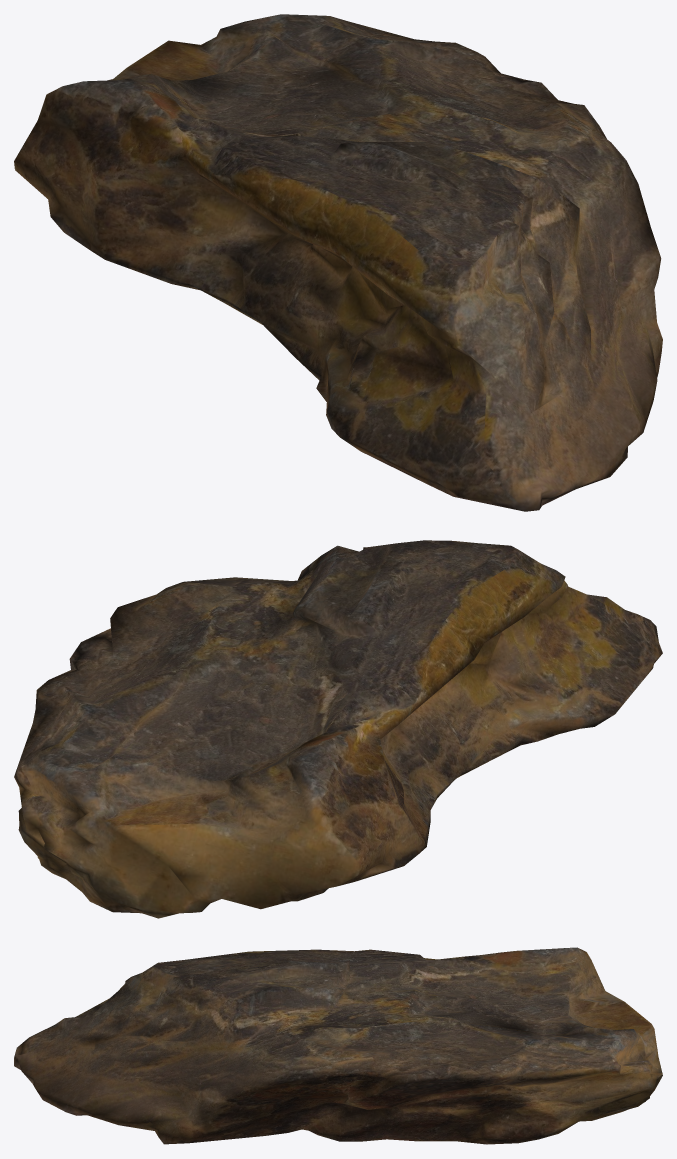
File: rock_09.glb
3 renders of one model, top to bottom at view 1: azimuth 30°, elevation 25°; view 2: azimuth 150°, elevation 25°; view 3: azimuth 270°, elevation 25°, orthographic. The views are drawn at different scales.
Bounding box in the file's own units: 0.0737 × 0.0326 × 0.1446.
1 material, 1 textured.
